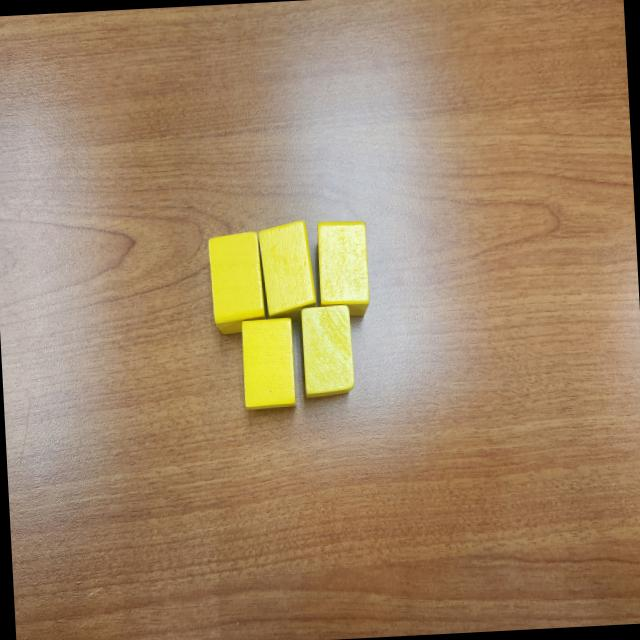yellow: (257, 220, 318, 322), (208, 231, 266, 336), (315, 219, 372, 319), (300, 302, 356, 398), (240, 316, 296, 409)
